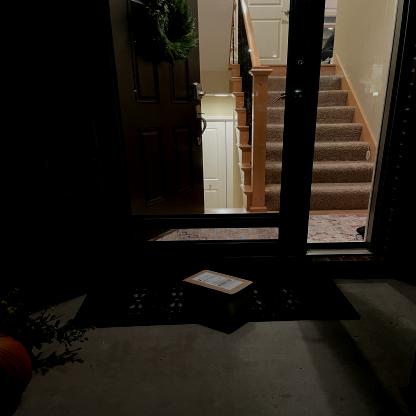box: (180, 262, 259, 320)
